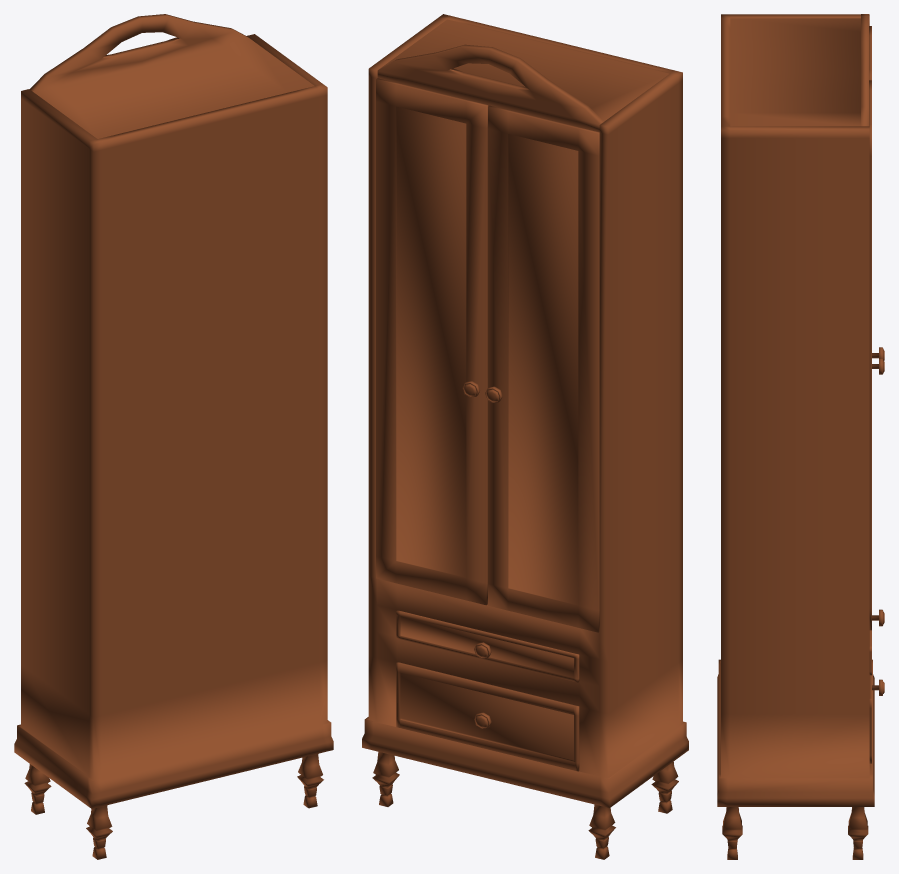
File: Armoire.glb
3 renders of one model, left to right at view 1: azimuth 30°, elevation 25°; view 2: azimuth 150°, elevation 25°; view 3: azimuth 270°, elevation 25°, orthographic. The views are drawn at different scales.
Parts seen in each view (by area): view 1: S_ArmoireBase_low, S_ArmoirePied_low; view 2: S_ArmoireBase_low, S_ArmoirePorteDroite_low, S_ArmoirePorteGauche_low, S_ArmoireTiroirBas_low, S_ArmoireTiroirHaut_low, S_ArmoirePied_low; view 3: S_ArmoireBase_low, S_ArmoirePorteGauche_low, S_ArmoirePied_low, S_ArmoireTiroirBas_low.
Boxes of the visible parts, <box> form: S_ArmoireBase_low: <box>14,14,333,808</box>; S_ArmoirePied_low: <box>24,753,323,859</box>; S_ArmoireBase_low: <box>362,14,688,807</box>; S_ArmoirePorteDroite_low: <box>485,105,599,632</box>; S_ArmoirePorteGauche_low: <box>376,78,488,605</box>; S_ArmoireTiroirBas_low: <box>396,662,579,771</box>; S_ArmoireTiroirHaut_low: <box>396,610,579,682</box>; S_ArmoirePied_low: <box>372,752,678,859</box>; S_ArmoireBase_low: <box>717,14,874,806</box>; S_ArmoirePorteGauche_low: <box>869,80,884,630</box>; S_ArmoirePied_low: <box>722,807,868,859</box>; S_ArmoireTiroirBas_low: <box>869,675,884,763</box>.
Size of the model in its own units: 0.6693 by 2.02 by 0.3942.
